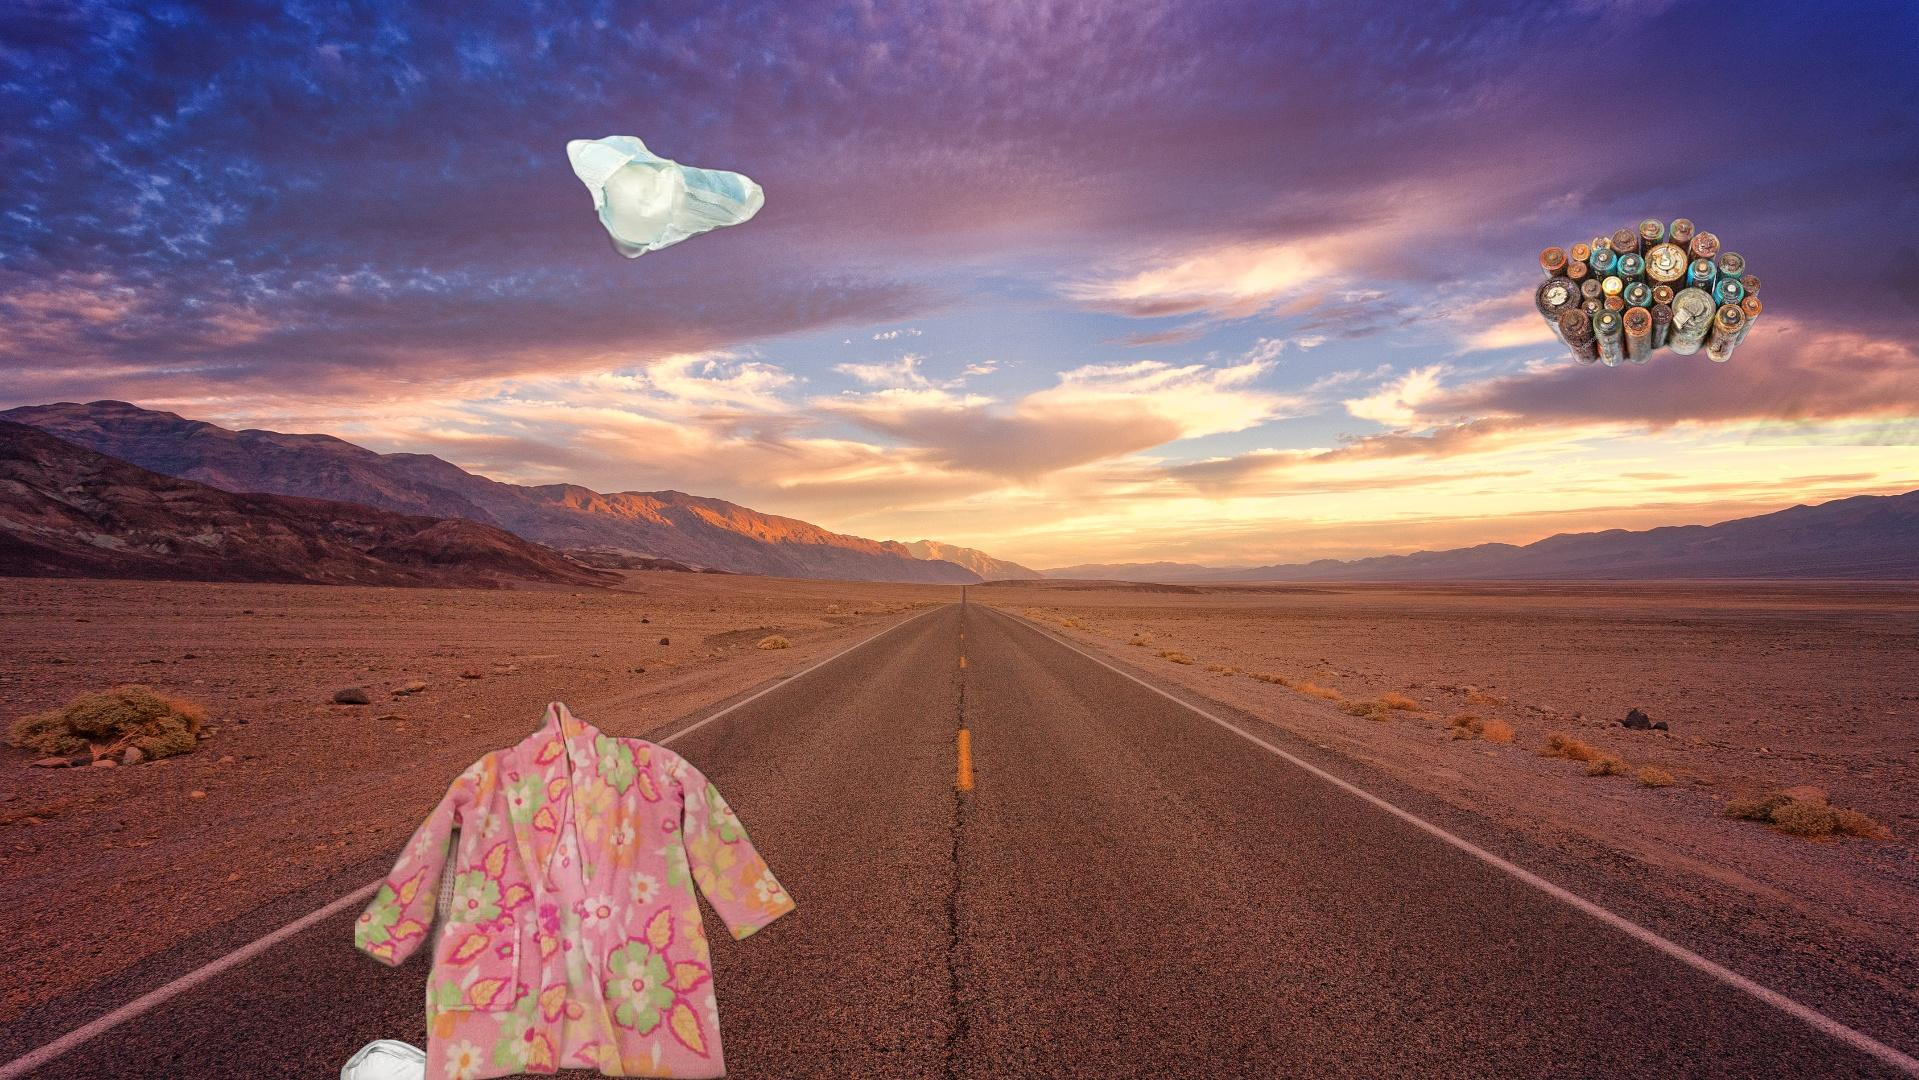battery: (1532, 216, 1767, 371)
clothes: (355, 698, 796, 1080)
metal-cans: (526, 868, 631, 978)
paper: (1674, 62, 1919, 446)
trash: (561, 132, 768, 262), (336, 1036, 497, 1080)
